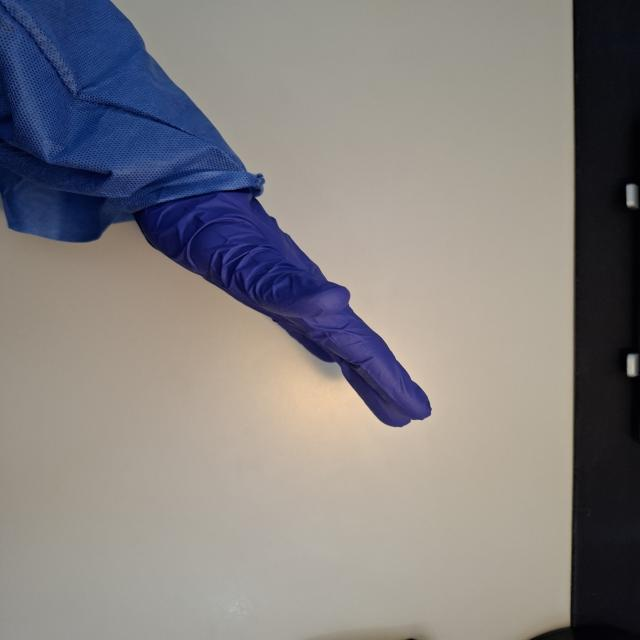glove_on: (130, 172, 438, 428)
